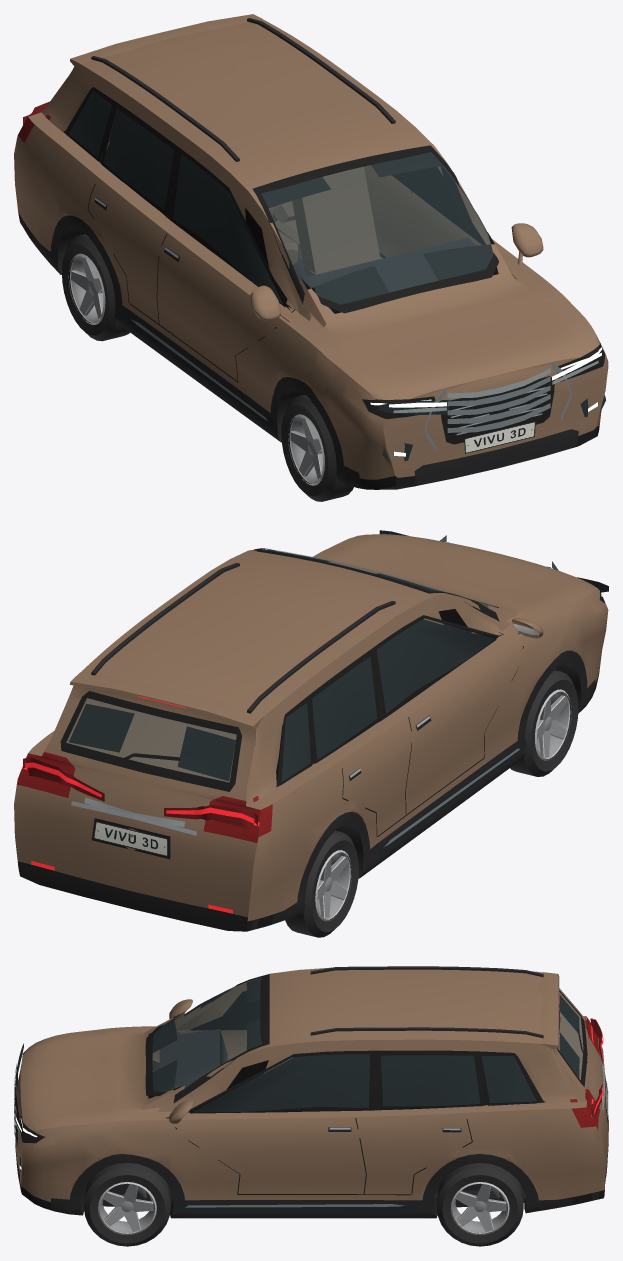
File: touring-mpv.glb
3 views of the same model, one above another, from view 1: azimuth 30°, elevation 25°; view 2: azimuth 150°, elevation 25°; view 3: azimuth 270°, elevation 25° (orthographic). The views are drawn at different scales.
Parts seen in each view (by area): view 1: paint_body, glass, panel_gap_body, trim_matte_body, trim_gloss, leather, tire (×2), trim_gloss_body, smoked_chrome, rim_paint (×2), interior, trim_matte (+4 smaller); view 2: paint_body, glass, panel_gap_body, trim_matte_body, trim_gloss, tire (×2), rim_paint (×2), lamp_red_body, trim_matte, rear_lamp_housing, registration, light_rear (+4 smaller); view 3: paint_body, glass, panel_gap_body, trim_matte_body, tire (×2), trim_gloss, rim_paint (×2), interior, trim_matte, dark_grille, rim_machined (×2), trim_gloss_body (+2 smaller).
Boxes of the visible parts, x1=… form: paint_body: x1=14, y1=14, x2=608, y2=479; glass: x1=69, y1=91, x2=493, y2=304; panel_gap_body: x1=69, y1=91, x2=498, y2=313; trim_matte_body: x1=20, y1=214, x2=578, y2=489; trim_gloss: x1=64, y1=87, x2=498, y2=382; leather: x1=107, y1=142, x2=382, y2=275; tire (×2): x1=61, y1=234, x2=353, y2=501; trim_gloss_body: x1=18, y1=212, x2=604, y2=489; smoked_chrome: x1=131, y1=319, x2=571, y2=451; rim_paint (×2): x1=71, y1=256, x2=322, y2=483; interior: x1=272, y1=216, x2=475, y2=292; trim_matte: x1=91, y1=18, x2=395, y2=161; paint_body: x1=14, y1=534, x2=608, y2=921; glass: x1=66, y1=549, x2=494, y2=782; panel_gap_body: x1=69, y1=549, x2=497, y2=784; trim_matte_body: x1=18, y1=650, x2=595, y2=931; trim_gloss: x1=60, y1=548, x2=523, y2=859; tire (×2): x1=285, y1=670, x2=578, y2=937; rim_paint (×2): x1=317, y1=691, x2=568, y2=919; lamp_red_body: x1=17, y1=752, x2=272, y2=842; trim_matte: x1=91, y1=563, x2=395, y2=713; rear_lamp_housing: x1=23, y1=757, x2=257, y2=829; registration: x1=93, y1=821, x2=168, y2=856; light_rear: x1=22, y1=695, x2=259, y2=913; paint_body: x1=15, y1=967, x2=608, y2=1201; glass: x1=152, y1=977, x2=582, y2=1111; panel_gap_body: x1=148, y1=978, x2=579, y2=1113; trim_matte_body: x1=15, y1=1060, x2=608, y2=1218; tire (×2): x1=84, y1=1162, x2=523, y2=1246; trim_gloss: x1=145, y1=974, x2=607, y2=1195; rim_paint (×2): x1=99, y1=1184, x2=507, y2=1233; interior: x1=159, y1=1029, x2=525, y2=1197; trim_matte: x1=310, y1=966, x2=543, y2=1038; dark_grille: x1=15, y1=1073, x2=414, y2=1211; rim_machined (×2): x1=98, y1=1182, x2=509, y2=1235; trim_gloss_body: x1=15, y1=1046, x2=604, y2=1208.
Size of the model in its own units: 2.13 by 1.78 by 4.75.
Materials: 25 (1 with a texture image).
